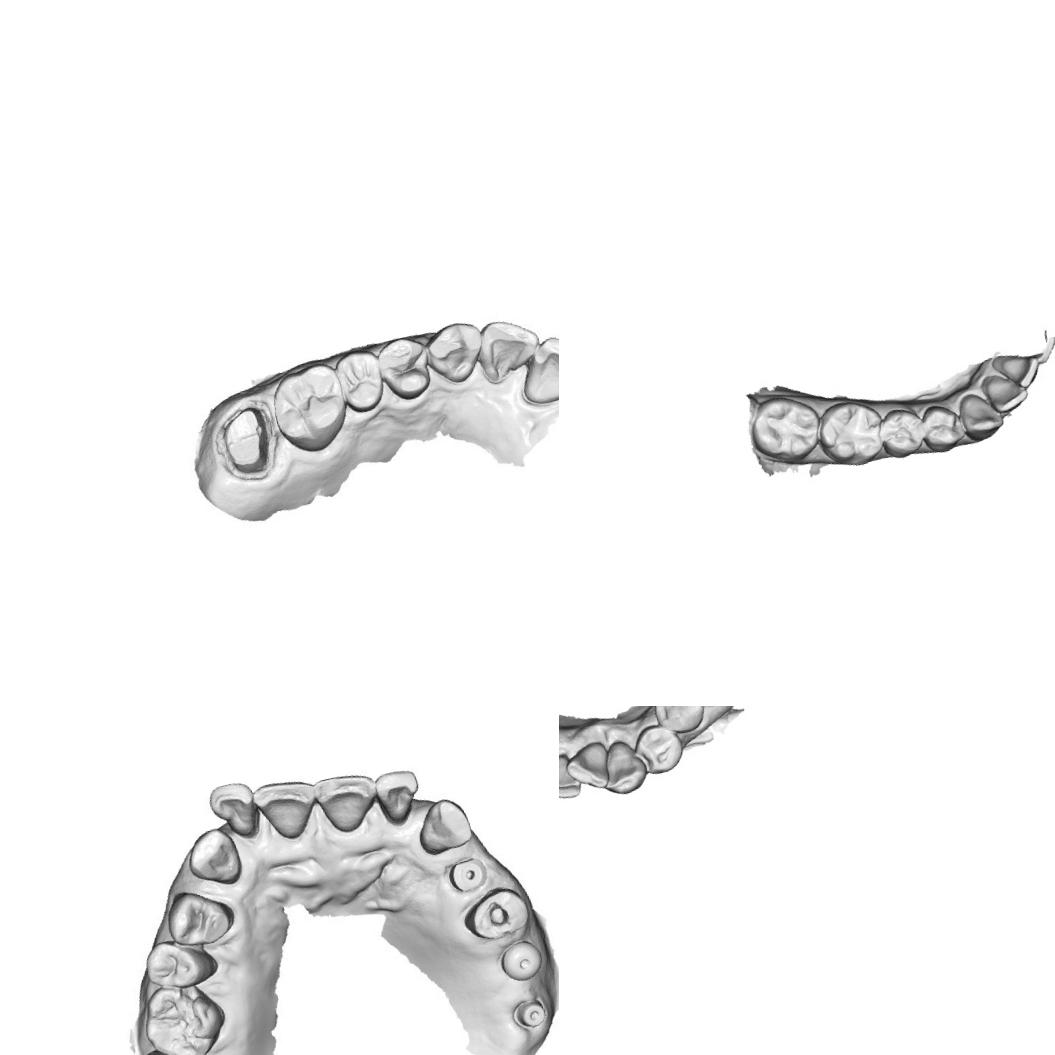canine: (420, 315, 490, 391), (409, 792, 478, 865), (180, 824, 248, 896), (595, 736, 651, 799), (954, 386, 1008, 446)
crown: (211, 398, 283, 486)
implant: (496, 934, 545, 986), (445, 853, 491, 900), (510, 990, 552, 1036)
incisor: (468, 308, 548, 388), (251, 771, 325, 845), (311, 764, 385, 838), (205, 775, 265, 844), (510, 328, 559, 409), (371, 762, 426, 828), (560, 738, 616, 797), (980, 366, 1032, 417), (996, 350, 1046, 394), (559, 750, 583, 803)
molar: (262, 356, 354, 460), (135, 975, 233, 1055), (743, 386, 828, 470), (811, 393, 891, 472)
premolar: (138, 930, 224, 1000), (164, 880, 238, 954), (374, 334, 440, 407), (458, 883, 534, 946), (332, 344, 390, 418), (628, 719, 688, 779), (875, 402, 930, 462), (916, 398, 968, 456), (648, 706, 711, 739)
